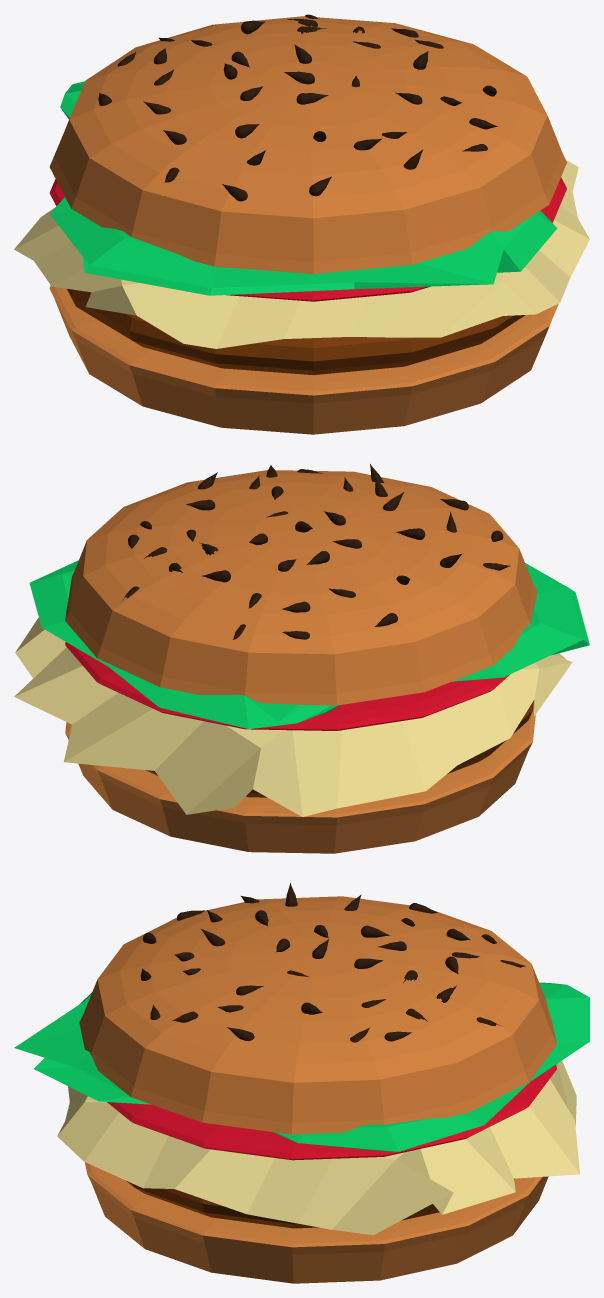
File: HamburgerDestroy.fbx
3 views of the same model, one above another, from view 1: azimuth 30°, elevation 25°; view 2: azimuth 150°, elevation 25°; view 3: azimuth 270°, elevation 25° (orthographic). The views are drawn at different scales.
Parts seen in each view (by area): view 1: Sphere.005; view 2: Sphere.005; view 3: Sphere.005.
Part boxes in pixels (box(x1,y1,x2,y2)): Sphere.005: box(14, 14, 589, 434); Sphere.005: box(14, 464, 589, 853); Sphere.005: box(14, 883, 589, 1283).
Bounding box in the file's own units: 242 × 126 × 238.
